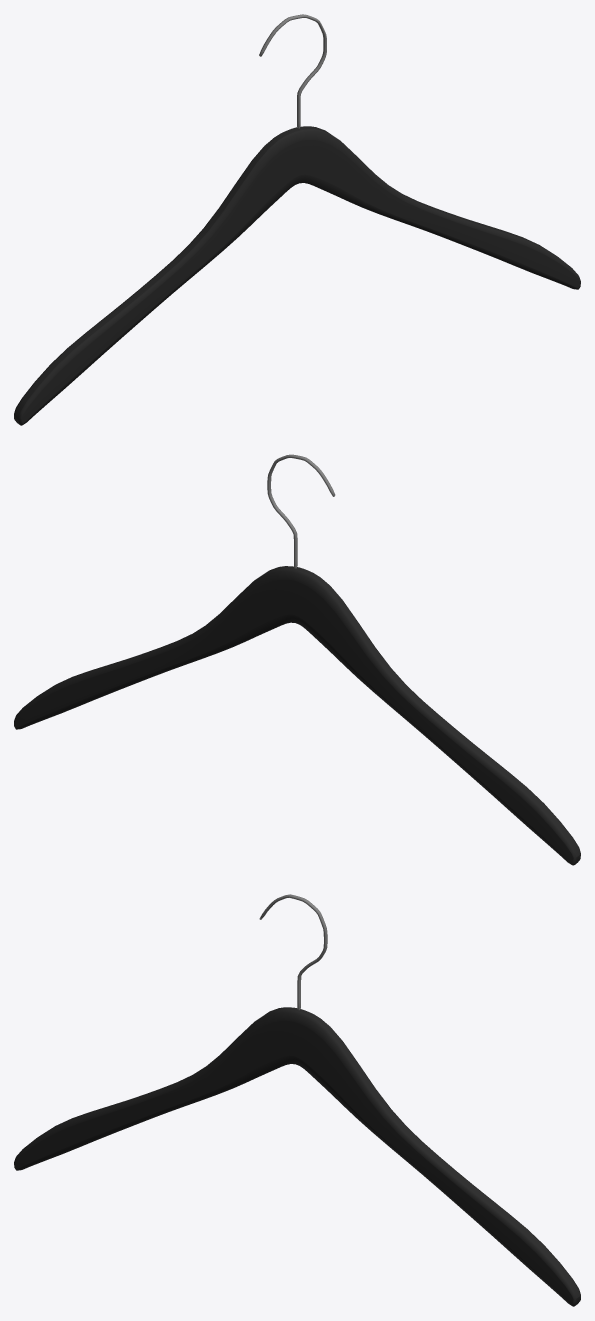
The model's file is Hanger.glb.
The picture shows the model from 3 angles, top to bottom: view 1: azimuth 30°, elevation 25°; view 2: azimuth 150°, elevation 25°; view 3: azimuth 330°, elevation 25°; orthographic projection.
Parts seen in each view (by area): view 1: Hanger; view 2: Hanger; view 3: Hanger.
Part boxes in pixels (box(x1,y1,x2,y2)): Hanger: box(14, 14, 580, 425); Hanger: box(14, 454, 580, 865); Hanger: box(14, 894, 580, 1306).
Bounding box in the file's own units: 0.4147 × 0.2404 × 0.00926.
1 material, 1 textured.
